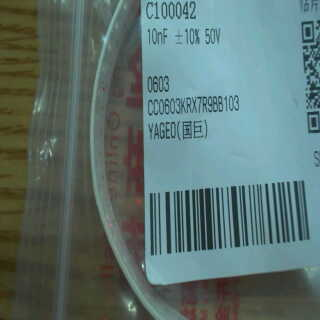10nF: (145, 23, 172, 50)
